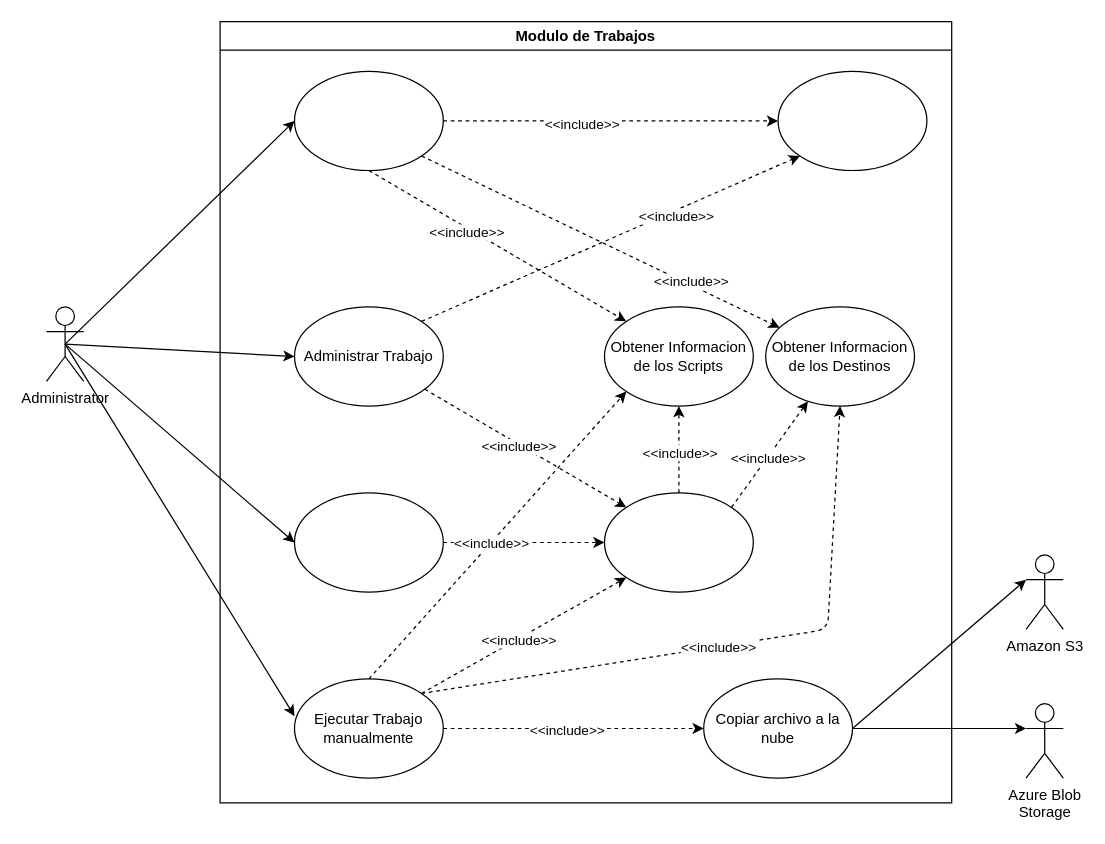
The diagram is 1105 pixels wide and 844 high, and some of its shapes have lost their labels. Here are the shapes that lost their labels. From the top down, the centre of each, then its label:
At (368,120): "Crear Trabajo".
At (852,120): "Guardar Informacion del Trabajo".
At (368,542): "Ver lista de Trabajo".
At (678,542): "Obtener Informacion de los Trabajos".
